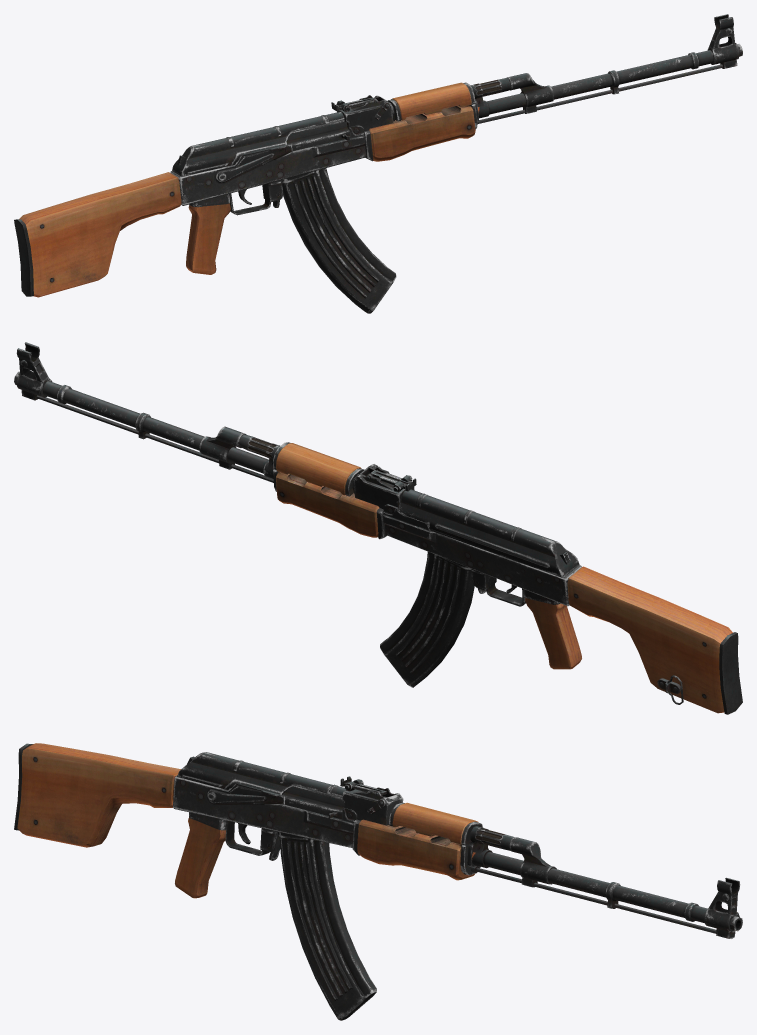
Rendered from Weapon_3005.fbx.
3 renders of one model, top to bottom at view 1: azimuth 30°, elevation 25°; view 2: azimuth 150°, elevation 25°; view 3: azimuth 330°, elevation 25°, orthographic. The views are drawn at different scales.
Parts seen in each view (by area): view 1: Weapon_3005, machinegun3_lod0_shutter; view 2: Weapon_3005; view 3: Weapon_3005, machinegun3_lod0_shutter.
Boxes of the visible parts, x1,y1,x2,y2 form: Weapon_3005: (14, 14, 742, 313); machinegun3_lod0_shutter: (286, 119, 350, 150); Weapon_3005: (14, 342, 742, 714); Weapon_3005: (14, 743, 742, 1020); machinegun3_lod0_shutter: (282, 785, 343, 819).
Size of the model in its own units: 160 by 48.36 by 20.88.
